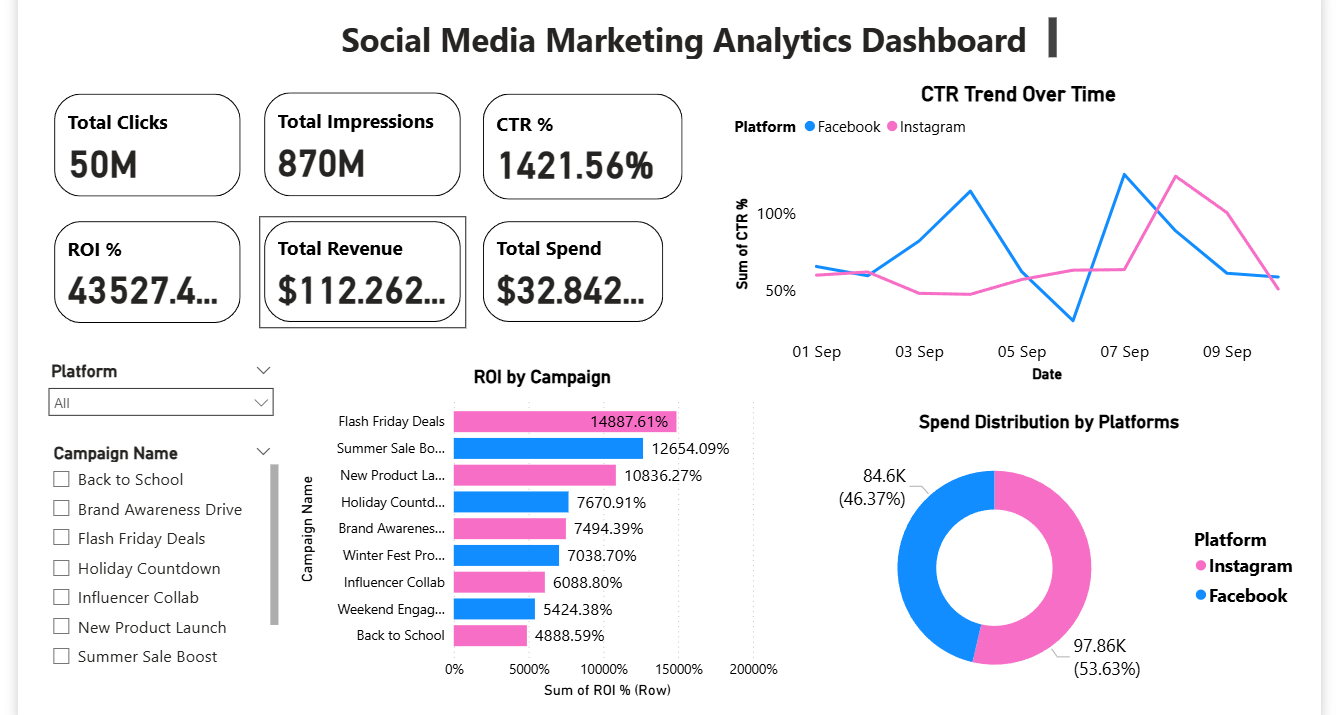

What the dashboard file says about the page in this screenshot:
{"tool":"powerbi","page":{"name":"Page 1","canvas":[1280,720],"ordinal":0},"visuals":[{"type":"textbox","box":[290.9,22,734.1,50.8],"z":0},{"type":"cardVisual","fields":{"Data":["Sum(Sheet1.Total Clicks)"]},"box":[30.2,97.4,193.5,111.1],"z":1000},{"type":"cardVisual","fields":{"Data":["Sum(Sheet1.Total Impressions)"]},"box":[237.4,96.1,203.1,112.5],"z":2000},{"type":"cardVisual","fields":{"Data":["Sum(Sheet1.Total Spend)"]},"box":[451.5,222.1,187.7,109.2],"z":3000},{"type":"cardVisual","fields":{"Data":["Sum(Sheet1.Total Revenue)"]},"box":[237.4,222.3,203.1,109.8],"z":4000},{"type":"cardVisual","fields":{"Data":["Sum(Sheet1.CTR %)"]},"box":[451.5,96.9,206.1,114.1],"z":5000},{"type":"cardVisual","fields":{"Data":["Sum(Sheet1.ROI %)"]},"box":[30.7,222.1,193.9,110.4],"z":6000},{"type":"clusteredBarChart","title":"ROI by Campaign","fields":{"Category":["Sheet1.Campaign Name"],"Y":["Sum(Sheet1.ROI % (Row))"]},"box":[271.7,369.1,487.1,330.7],"z":7000},{"type":"donutChart","title":"Spend Distribution by Platforms","fields":{"Category":["Sheet1.Platform"],"Y":["Sum(Sheet1.Spend)"]},"box":[758.8,413,507.7,286.8],"z":8000},{"type":"lineChart","title":"CTR Trend Over Time","fields":{"Series":["Sheet1.Platform"],"Y":["Sum(Sheet1.CTR %)"],"Category":["Sheet1.Date.Variation.Date Hierarchy.Year","Sheet1.Date.Variation.Date Hierarchy.Quarter","Sheet1.Date.Variation.Date Hierarchy.Month","Sheet1.Date.Variation.Date Hierarchy.Day"]},"box":[698.5,89.2,568.1,300.5],"z":9000},{"type":"slicer","fields":{"Values":["Sheet1.Platform"]},"box":[19.2,359.5,241.5,83.7],"z":10000},{"type":"slicer","fields":{"Values":["Sheet1.Campaign Name"]},"box":[22,439.1,238.8,234.6],"z":11000}]}

Visuals, with their boxes on the page's 1280x720 design canvas (x1, y1, x2, y2). These are canvas units, not pixel positions in the 1338x715 screenshot, which may show the page scaled, cropped or inside an application window:
textbox: [291,22,1025,73]
cardVisual - Sum(Sheet1.Total Clicks): [30,97,224,208]
cardVisual - Sum(Sheet1.Total Impressions): [237,96,440,209]
cardVisual - Sum(Sheet1.Total Spend): [452,222,639,331]
cardVisual - Sum(Sheet1.Total Revenue): [237,222,440,332]
cardVisual - Sum(Sheet1.CTR %): [452,97,658,211]
cardVisual - Sum(Sheet1.ROI %): [31,222,225,332]
"ROI by Campaign" clusteredBarChart: [272,369,759,700]
"Spend Distribution by Platforms" donutChart: [759,413,1266,700]
"CTR Trend Over Time" lineChart: [698,89,1267,390]
slicer - Sheet1.Platform: [19,360,261,443]
slicer - Sheet1.Campaign Name: [22,439,261,674]
